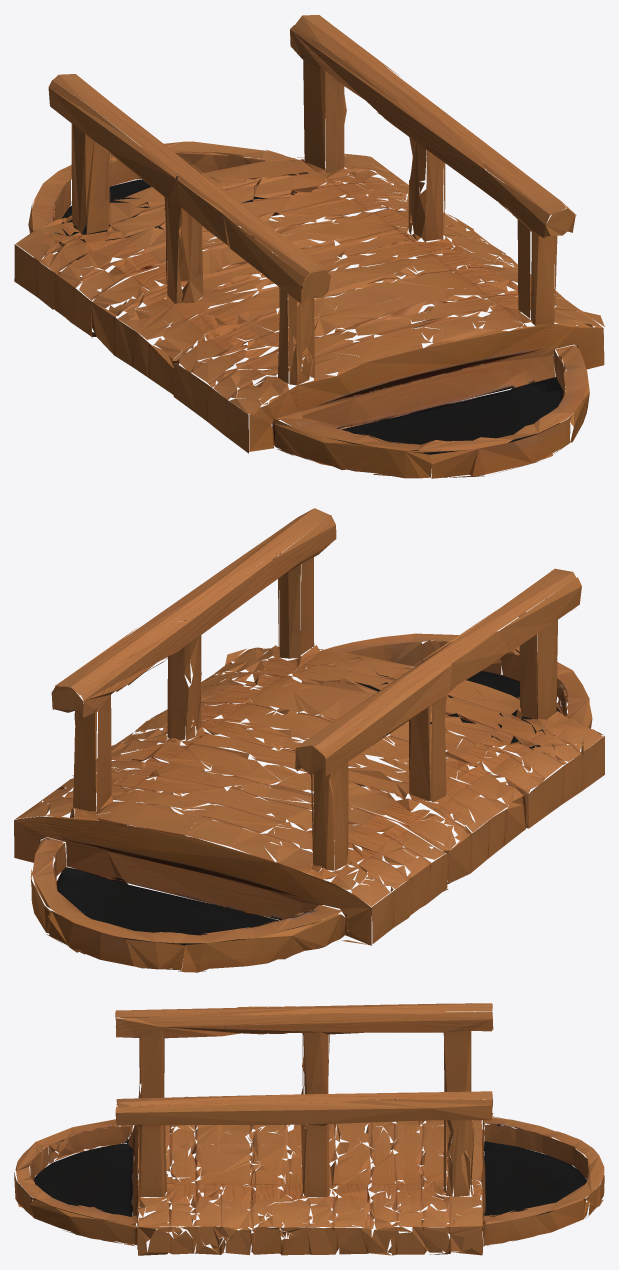
The model's file is bridge.glb.
3 renders of one model, top to bottom at view 1: azimuth 30°, elevation 25°; view 2: azimuth 150°, elevation 25°; view 3: azimuth 270°, elevation 25°, orthographic. The views are drawn at different scales.
Parts seen in each view (by area): view 1: textured_mesh.obj; view 2: textured_mesh.obj; view 3: textured_mesh.obj.
Boxes of the visible parts, x1,y1,x2,y2 form: textured_mesh.obj: [14, 15, 604, 478]; textured_mesh.obj: [14, 508, 604, 972]; textured_mesh.obj: [14, 1003, 604, 1255].
Bounding box in the file's own units: 1.06 × 0.532 × 1.99.
1 material, 1 textured.
